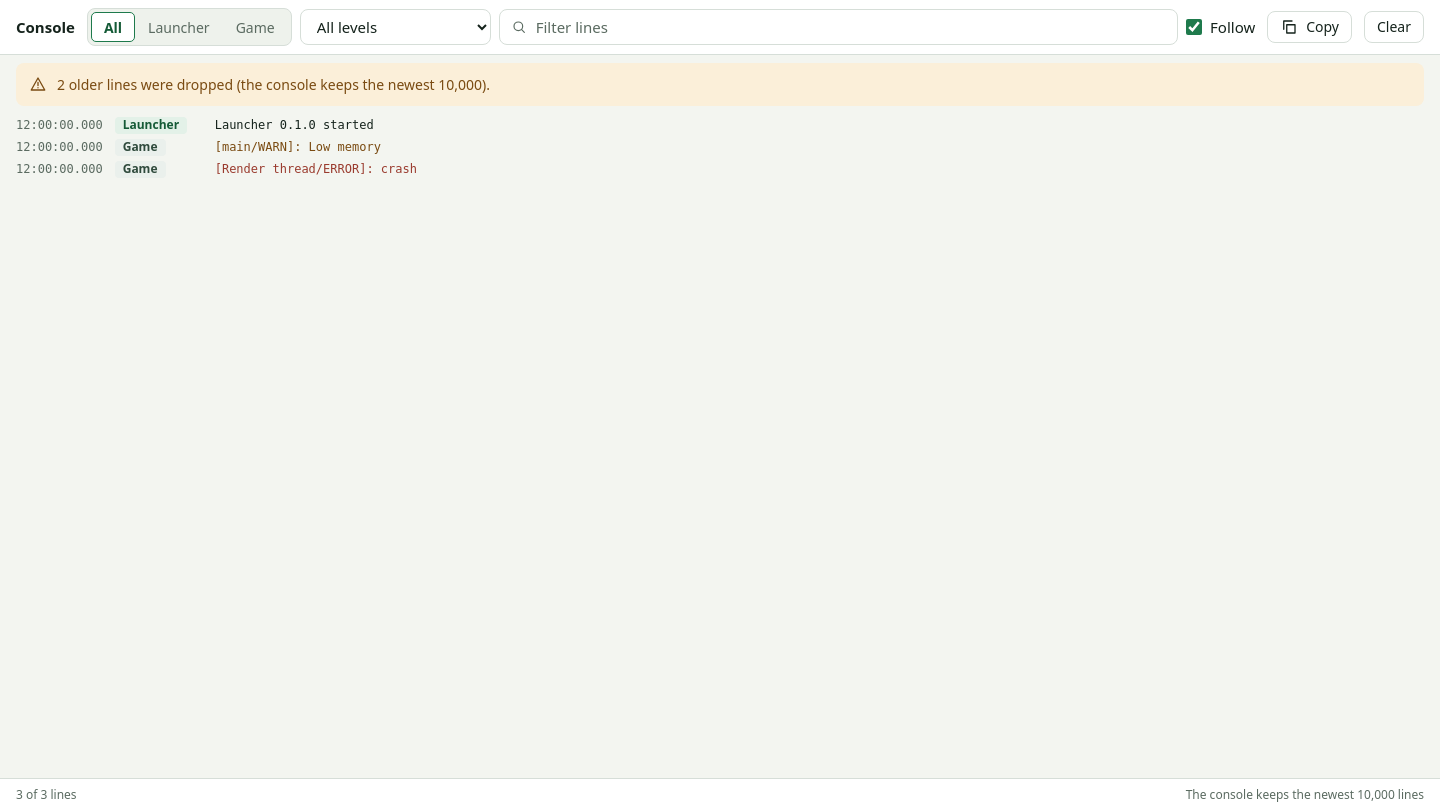
Test: ConsoleApp › names the log, tags lines in sentence case and copies them with the plain-text tags
expect the text "Launcher" is shown: met, box top-left (115, 117), bottom-right (187, 134)
expect the text "The console keeps the newest 10,000 lines" is shown: met, box top-left (1186, 786), bottom-right (1424, 804)
Step 1. Click the radio button labelled "Game" → (255,27), box top-left (223, 12), bottom-right (288, 42)
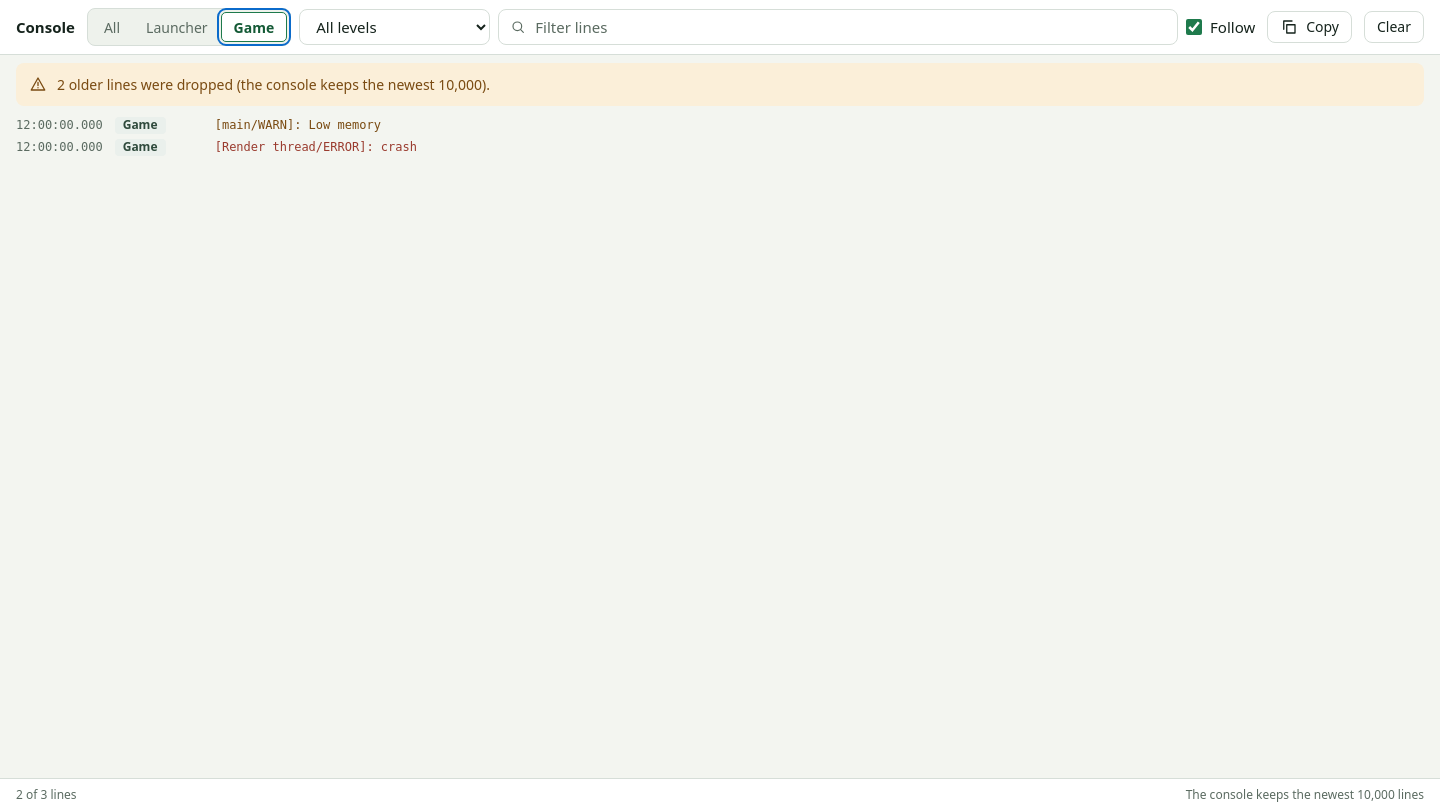
Step 2. Click the button "Copy" → (1310,27), box top-left (1267, 11), bottom-right (1352, 43)
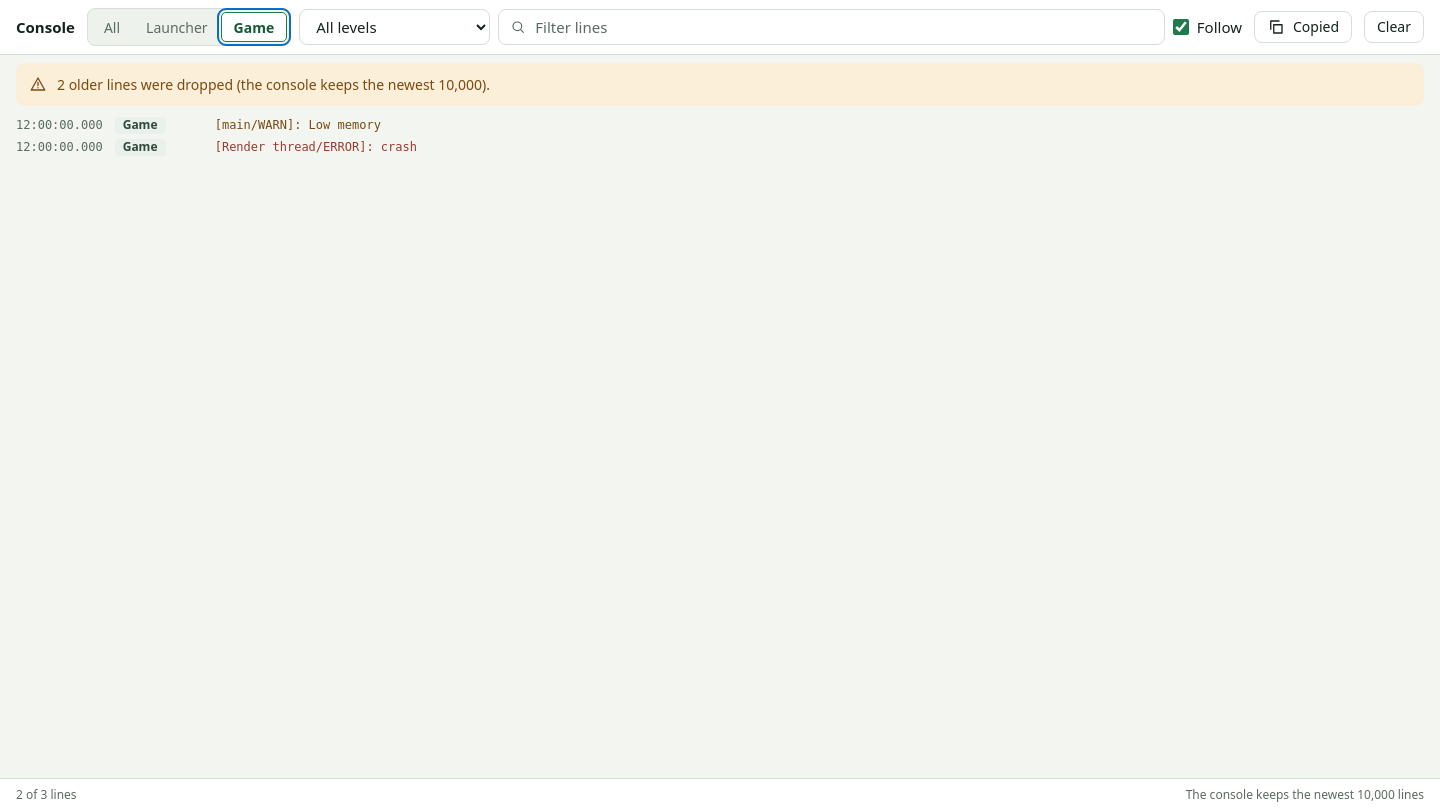
expect the button "Copied" is shown: met, box top-left (1254, 11), bottom-right (1352, 43)
